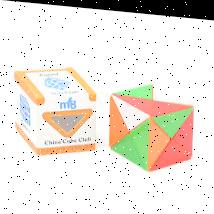cube: (14, 62, 98, 157)
